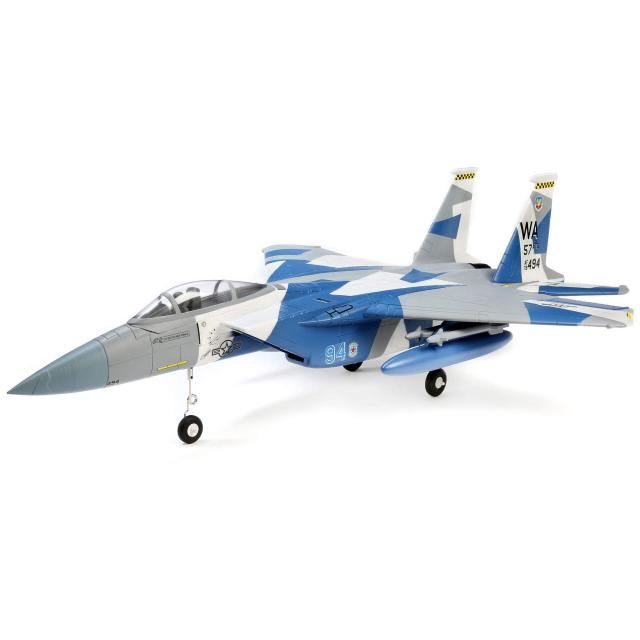F15: (3, 151, 640, 486)
